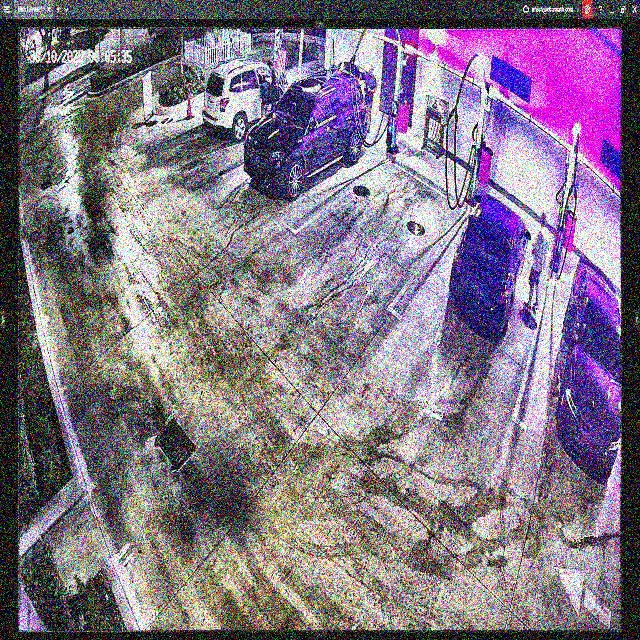Car: (244, 68, 368, 197), (449, 192, 531, 339)
